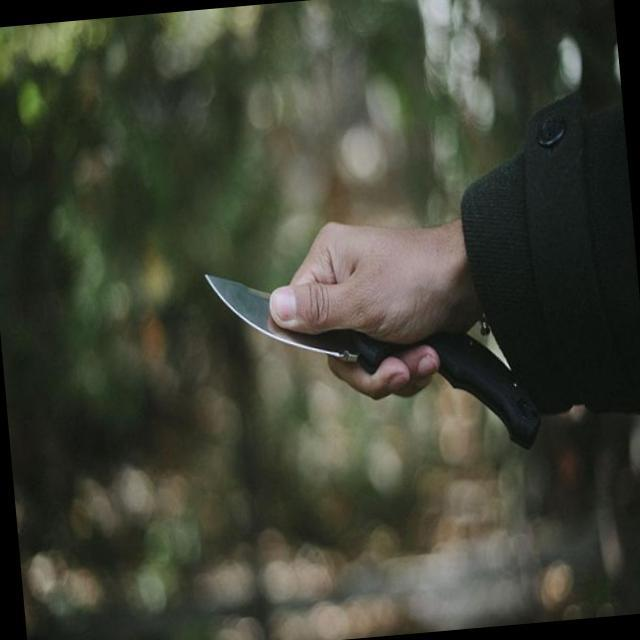Knife: (198, 247, 396, 409)
